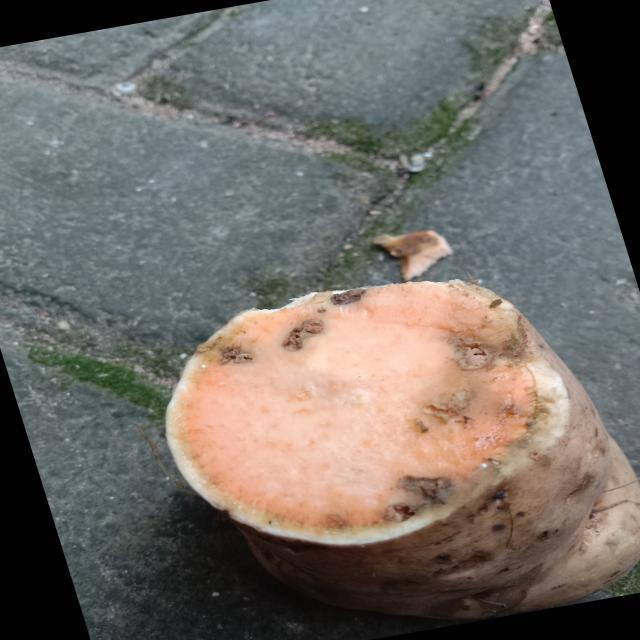Sick Sweet Potato_Tuber Rot: (177, 282, 537, 528)
